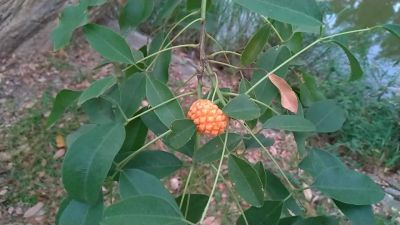eggs: (186, 98, 227, 137)
